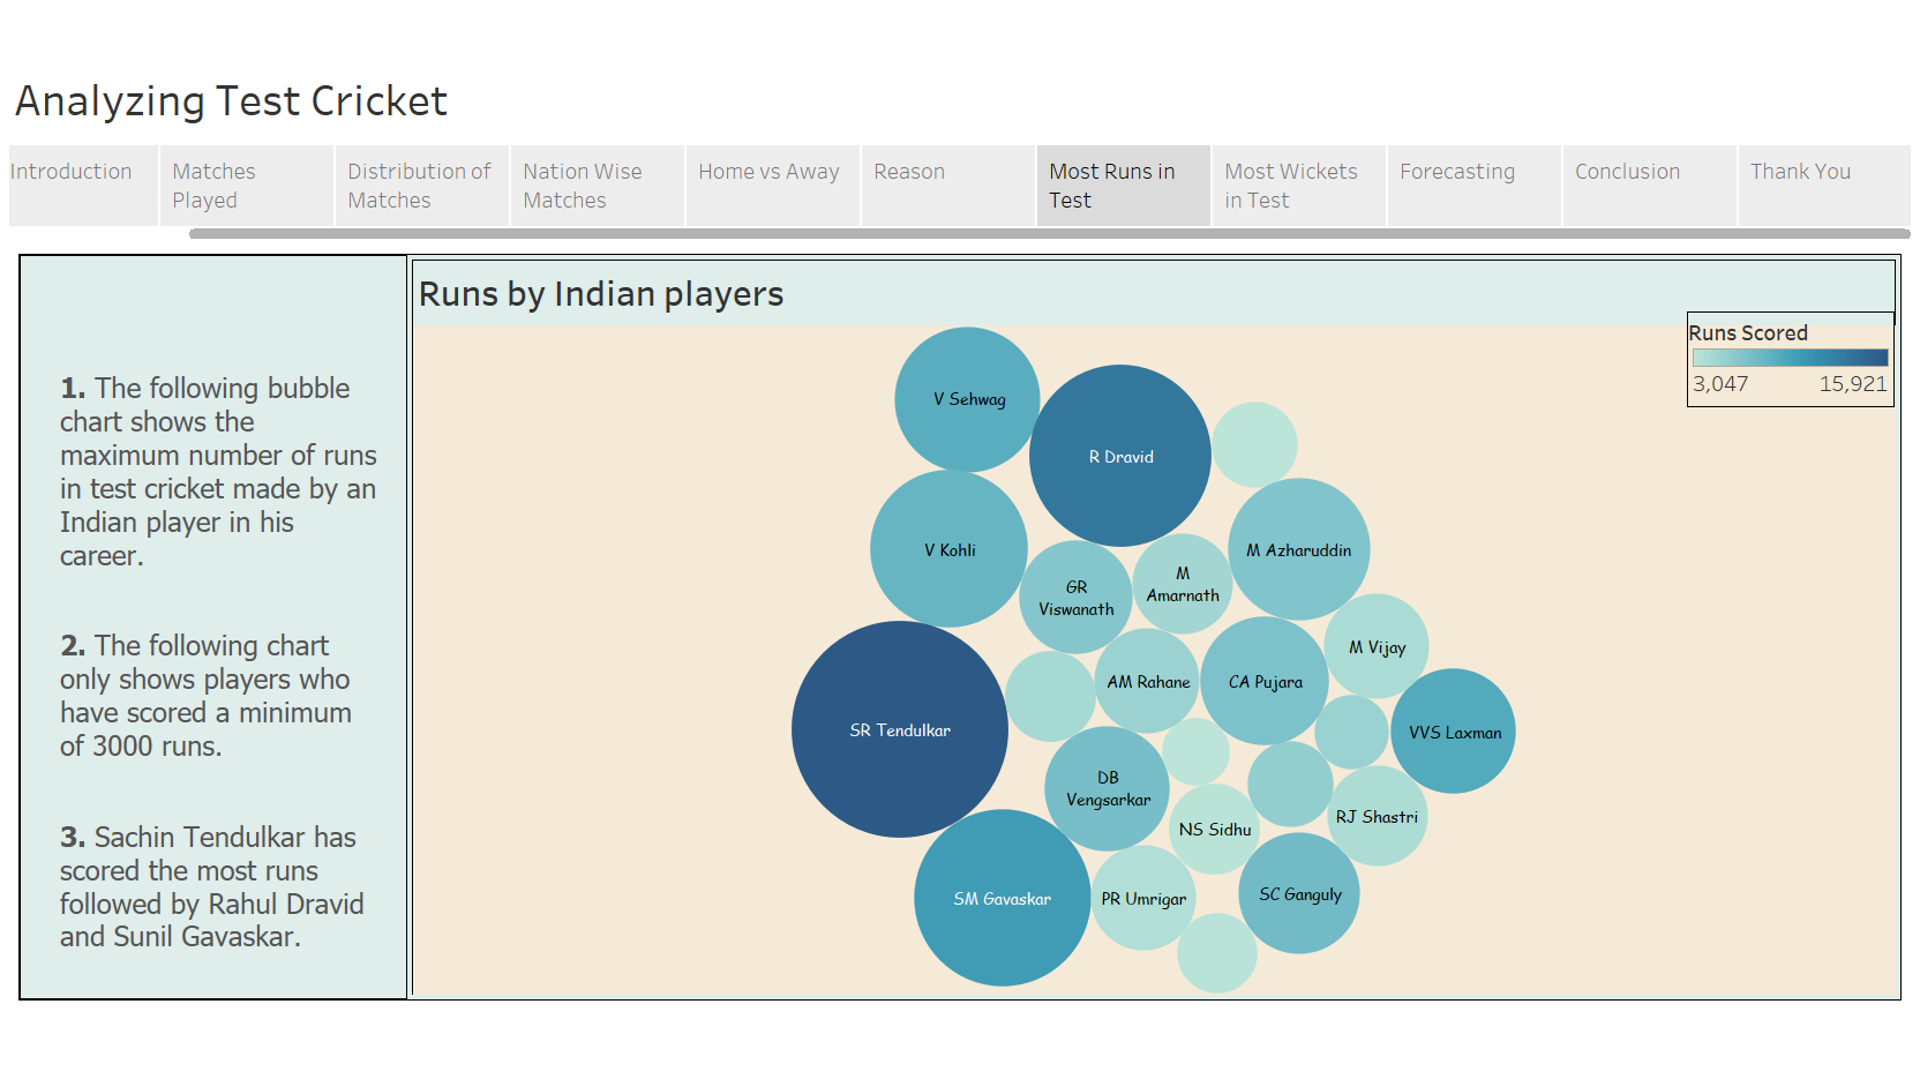

What the dashboard file says about the page in this screenshot:
{"tool":"tableau","page":{"name":"Slide 5 text","canvas":[1000,1000],"units":"permille","ordinal":8},"visuals":[{"type":"worksheet","title":"Runs by Indian players","mark":"Circle","box":[209.2,10.8,785.4,978.3]},{"type":"text","box":[6,12,202.6,21.7]},{"type":"text","box":[22.8,80.7,172.5,892.8]},{"type":"legend","title":"Runs by Indian players","param":"[federated.1y4a1gy0mp3hqt133dgaq194pq95].[sum:Runs:qk]","box":[882.5,86.8,108.9,126.5]}]}

Visuals, with their boxes on the dashboard's canvas, which has no fixed pixel size, in thousandths of its width and height (x1, y1, x2, y2). These are canvas units, not pixel positions in the 1920x1080 screenshot, which may show the page scaled, cropped or inside an application window:
"Runs by Indian players" worksheet (Circle marks): {"x1": 209, "y1": 11, "x2": 995, "y2": 989}
text: {"x1": 6, "y1": 12, "x2": 209, "y2": 34}
text: {"x1": 23, "y1": 81, "x2": 195, "y2": 974}
"Runs by Indian players" legend: {"x1": 882, "y1": 87, "x2": 991, "y2": 213}
